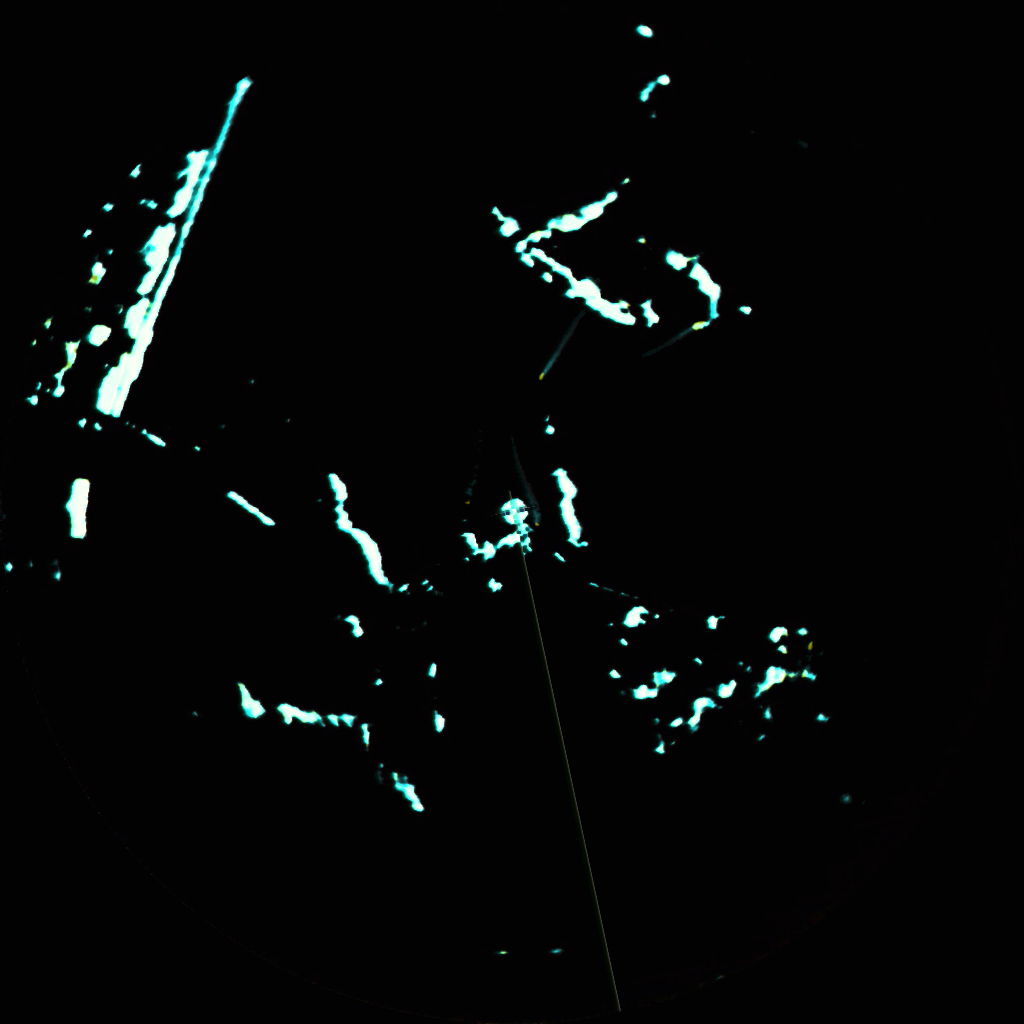B: (535, 333, 566, 384), (668, 322, 707, 351), (528, 485, 543, 527)
